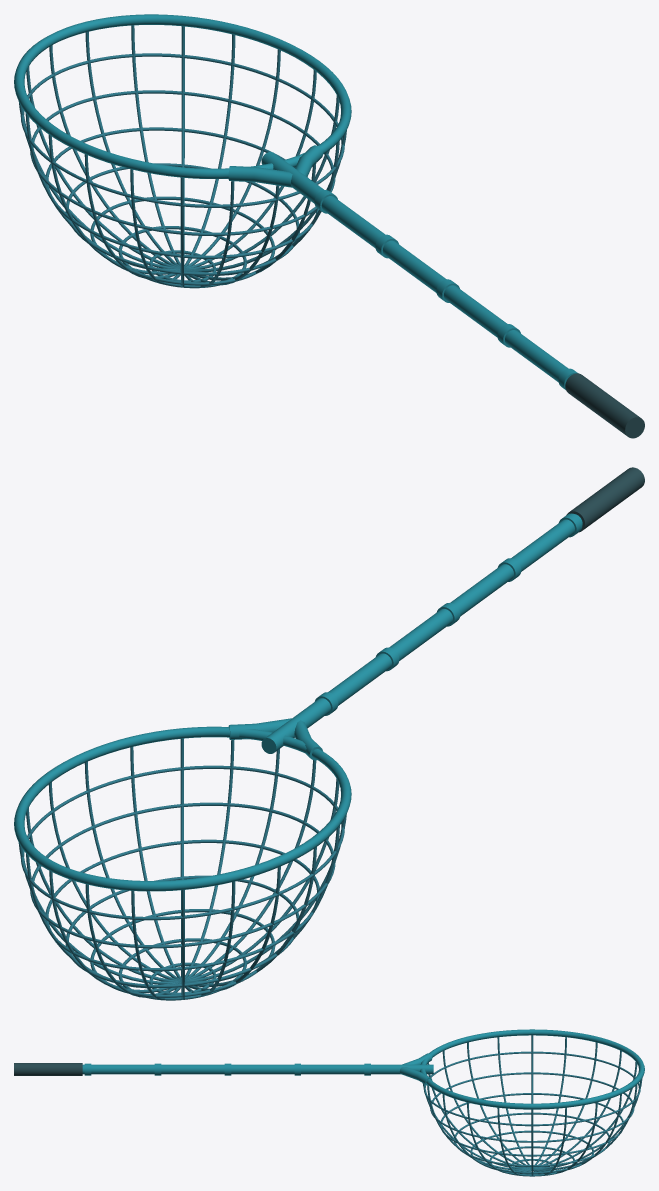
The model's file is A-NEW-20261027-SCOOP-NET-001_LOD0_R1.glb.
3 views of the same model, one above another, from view 1: azimuth 30°, elevation 25°; view 2: azimuth 150°, elevation 25°; view 3: azimuth 270°, elevation 25° (orthographic). The views are drawn at different scales.
Parts seen in each view (by area): view 1: continuous oval hoop, continuous long handle, bag latitude 1, bag latitude 2, rounded terminal grip, bag latitude 3, bag latitude 4, bag meridian 6, bag meridian 1, bag meridian 5, bag meridian 4, bag meridian 0 (+8 smaller); view 2: continuous oval hoop, continuous long handle, bag latitude 1, bag latitude 2, bag latitude 3, rounded terminal grip, bag latitude 4, bag meridian 4, bag meridian 0, bag meridian 5, bag meridian 9, bag meridian 8 (+6 smaller); view 3: continuous long handle, continuous oval hoop, bag latitude 1, bag latitude 2, rounded terminal grip, bag latitude 3, bag latitude 4, bag meridian 6, bag latitude 5, bag meridian 2, bag meridian 7, bag meridian 3 (+8 smaller).
Boxes of the visible parts, box(x1,y1,x2,y2) form: continuous oval hoop: box(14, 14, 351, 178); continuous long handle: box(261, 152, 568, 382); bag latitude 1: box(20, 53, 344, 207); bag latitude 2: box(30, 90, 335, 235); rounded terminal grip: box(565, 373, 644, 438); bag latitude 3: box(45, 127, 318, 258); bag latitude 4: box(65, 163, 299, 275); bag meridian 6: box(49, 45, 316, 280); bag meridian 1: box(84, 49, 280, 278); bag meridian 5: box(85, 31, 279, 285); bag meridian 4: box(131, 25, 234, 287); bag meridian 0: box(48, 70, 316, 274); continuous oval hoop: box(14, 726, 351, 891); continuous long handle: box(261, 514, 582, 753); bag latitude 1: box(20, 765, 344, 920); bag latitude 2: box(30, 802, 335, 948); bag latitude 3: box(45, 839, 319, 971); rounded terminal grip: box(566, 467, 644, 532); bag latitude 4: box(65, 875, 299, 987); bag meridian 4: box(49, 760, 316, 993); bag meridian 0: box(48, 782, 316, 986); bag meridian 5: box(85, 749, 279, 997); bag meridian 9: box(84, 761, 280, 990); bag meridian 8: box(130, 747, 235, 996); continuous long handle: box(82, 1064, 433, 1074); continuous oval hoop: box(420, 1029, 644, 1109); bag latitude 1: box(423, 1051, 640, 1126); bag latitude 2: box(430, 1072, 634, 1142); rounded terminal grip: box(14, 1063, 82, 1075); bag latitude 3: box(440, 1093, 623, 1156); bag latitude 4: box(454, 1112, 610, 1166); bag meridian 6: box(427, 1062, 637, 1170); bag latitude 5: box(470, 1130, 593, 1173); bag meridian 2: box(467, 1042, 597, 1173); bag meridian 7: box(442, 1050, 621, 1171); bag meridian 3: box(442, 1050, 621, 1171).
Size of the model in its own units: 0.662 by 0.4275 by 2.3.
